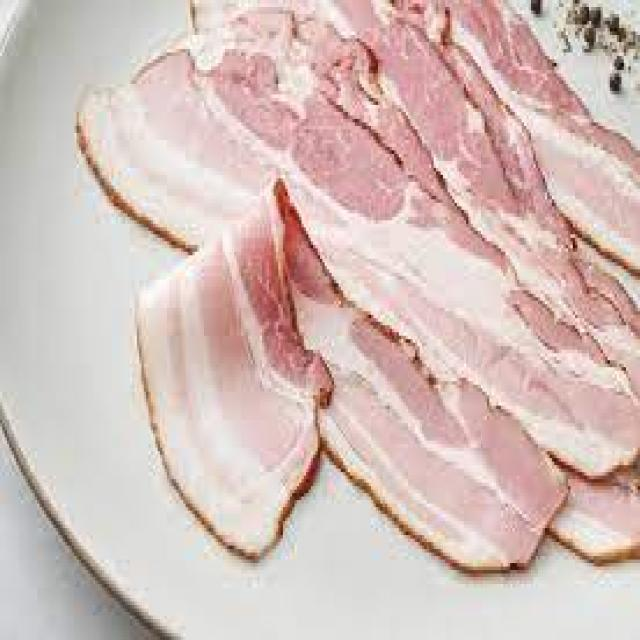bacon: (59, 0, 640, 599)
